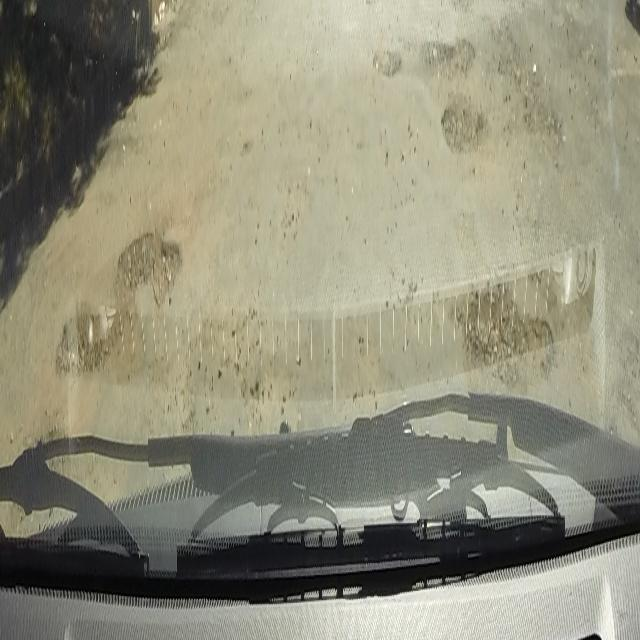pothole: (450, 276, 555, 401), (116, 226, 182, 308), (53, 301, 124, 374), (368, 32, 477, 77), (439, 90, 485, 154)
